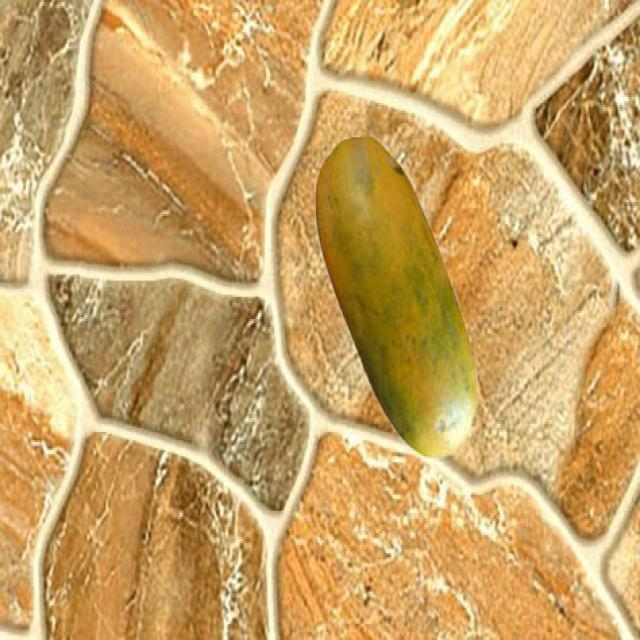Pepaya rippen: (316, 125, 481, 460)
